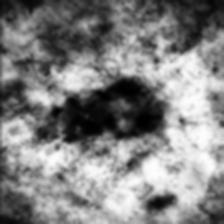Potentially Malignant Skin Tumors: (40, 76, 165, 150)
